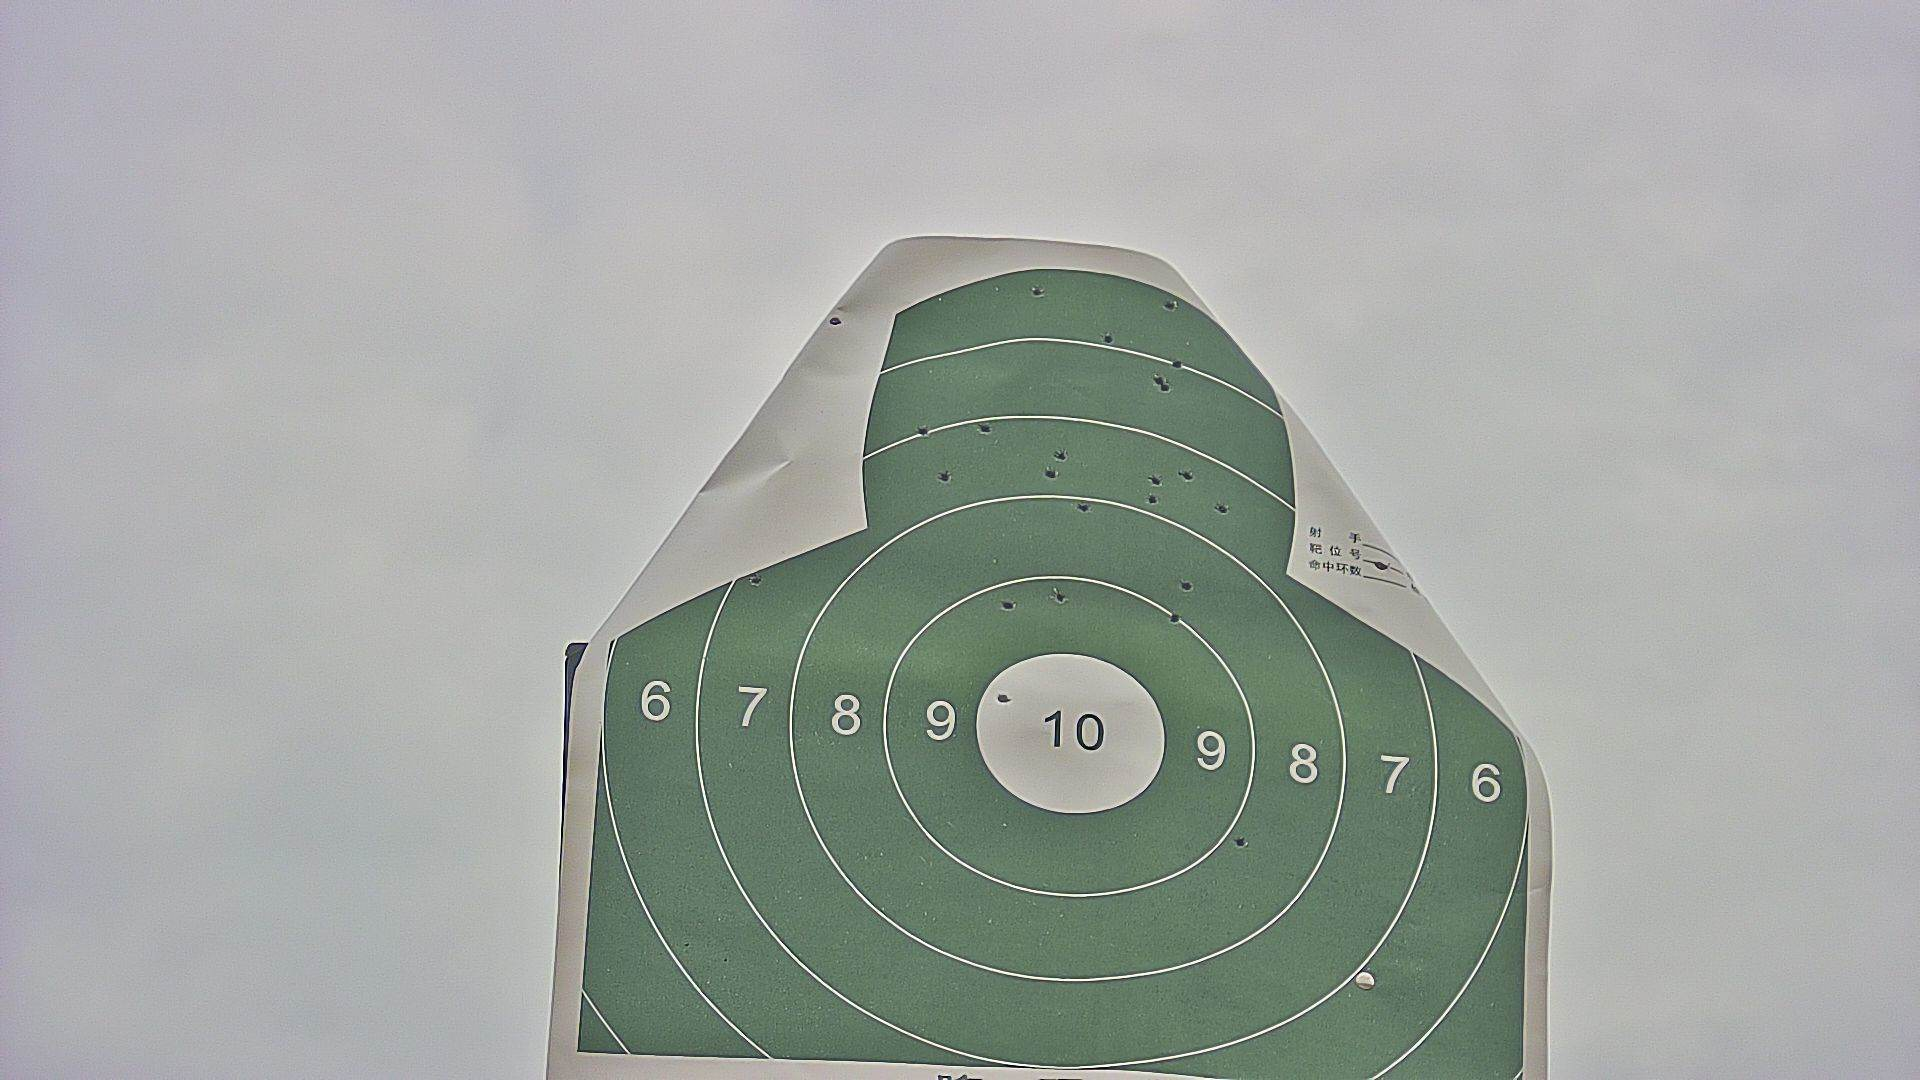hole: (1233, 833, 1247, 848), (1167, 609, 1183, 622), (994, 692, 1013, 703), (939, 468, 952, 483), (748, 572, 762, 585), (1178, 578, 1193, 589), (978, 421, 992, 434), (1031, 284, 1046, 295), (1044, 465, 1059, 477), (1054, 589, 1065, 604), (1101, 334, 1114, 345), (1077, 501, 1091, 513), (1179, 469, 1193, 480), (1001, 599, 1015, 609), (1159, 381, 1172, 392), (1149, 475, 1162, 485), (1163, 299, 1178, 309), (916, 427, 931, 436), (1146, 492, 1158, 502), (1151, 373, 1162, 384), (1056, 450, 1067, 459), (1217, 502, 1226, 513), (1172, 359, 1180, 369)
kernel: (1067, 728, 1071, 732)
target: (575, 265, 1534, 1080)
ten: (977, 653, 1164, 815)
